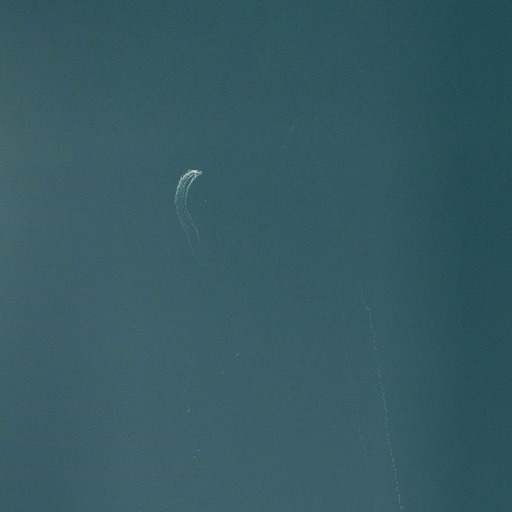ship: (191, 168, 202, 176)
